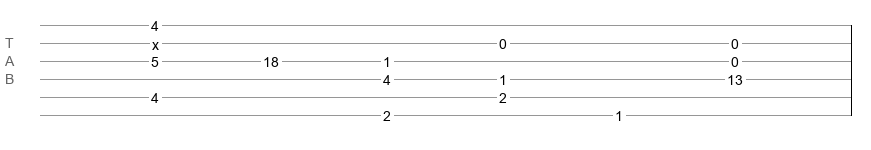0: (499, 36, 507, 46), (731, 54, 739, 64), (731, 36, 739, 46)
1: (383, 54, 391, 64), (499, 72, 507, 82), (615, 108, 623, 118)
13: (727, 72, 743, 82)
18: (263, 54, 279, 64)
2: (383, 108, 391, 118), (499, 90, 507, 100)
4: (151, 90, 159, 100), (151, 18, 159, 28), (383, 72, 391, 82)
5: (151, 54, 159, 64)
x: (152, 37, 159, 45)
